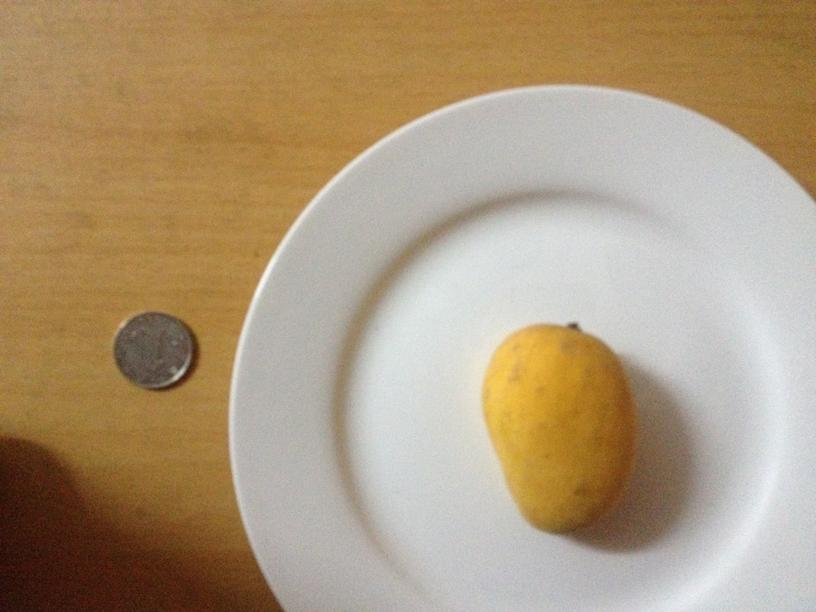coin: (113, 311, 193, 388)
mango: (476, 322, 631, 534)
